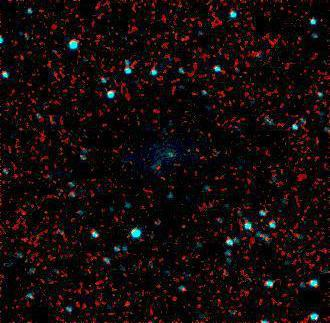star: (111, 288, 141, 318)
